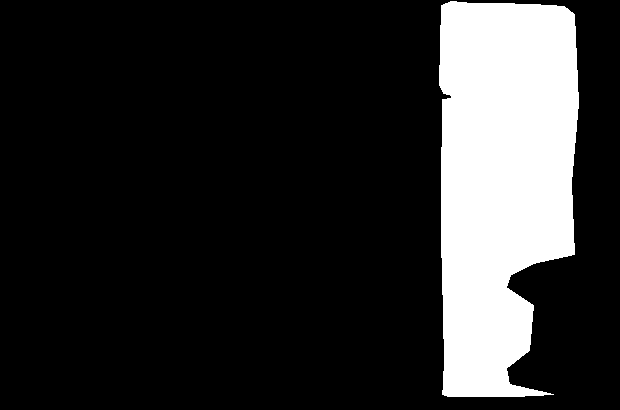type5: (436, 2, 580, 401)
